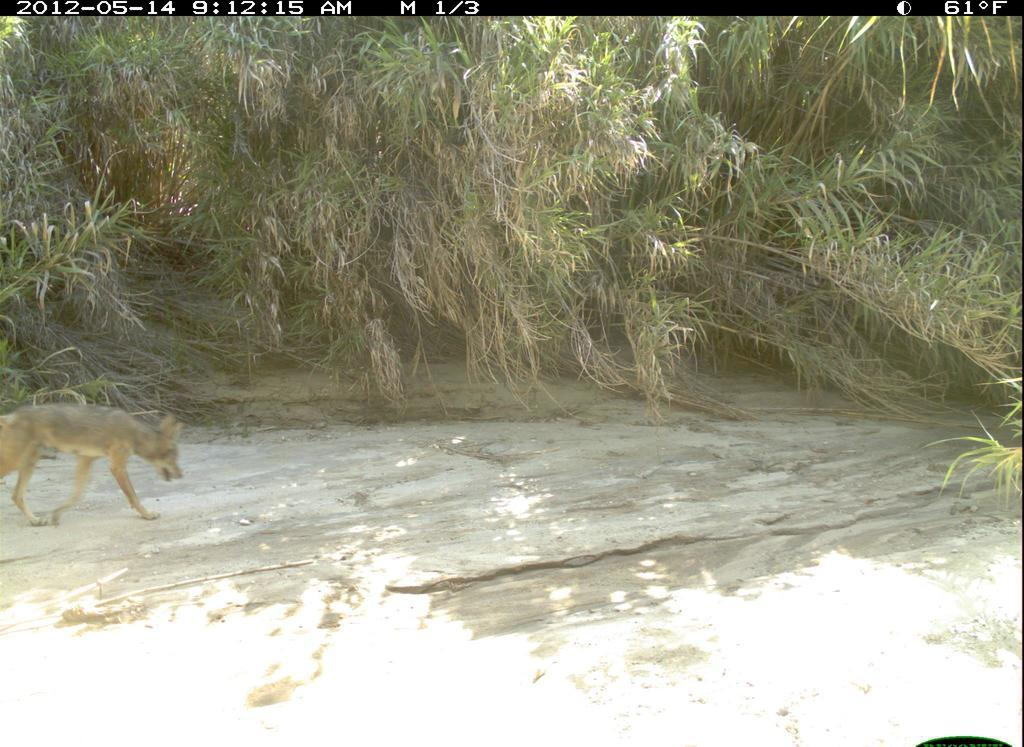coyote: (9, 392, 198, 536)
